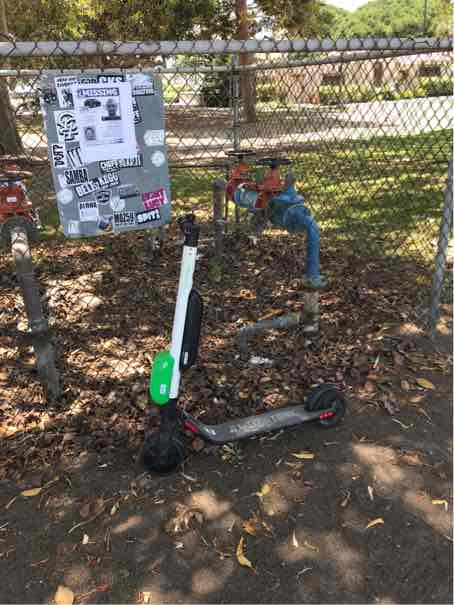scooter: (133, 201, 344, 468)
